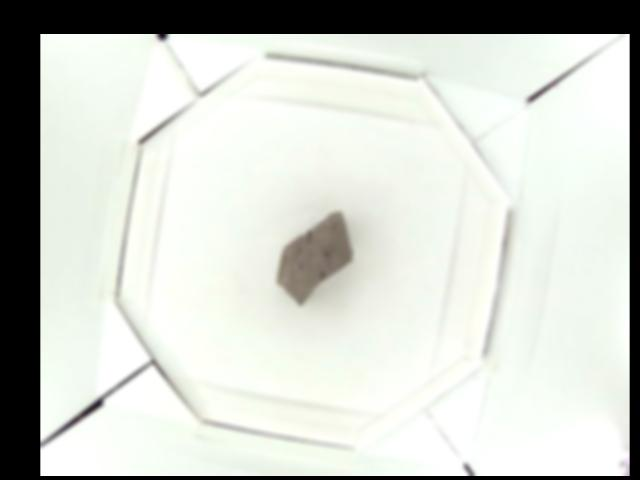China: (274, 210, 352, 306)
